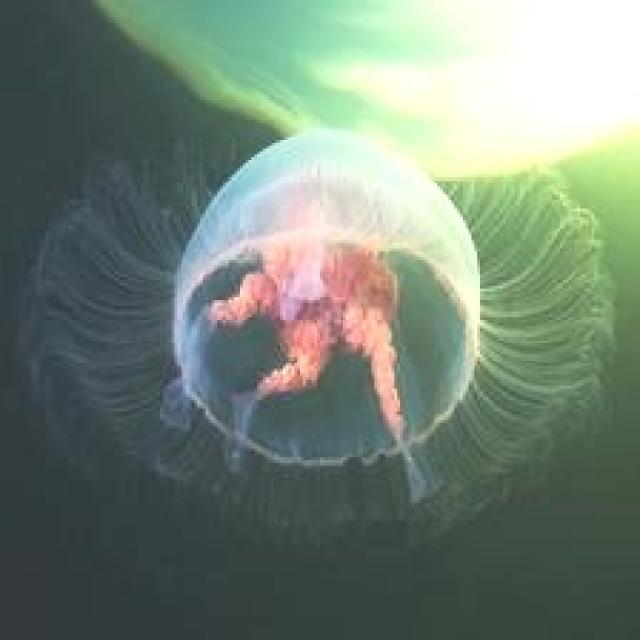Jellyfish: (19, 100, 618, 557)
